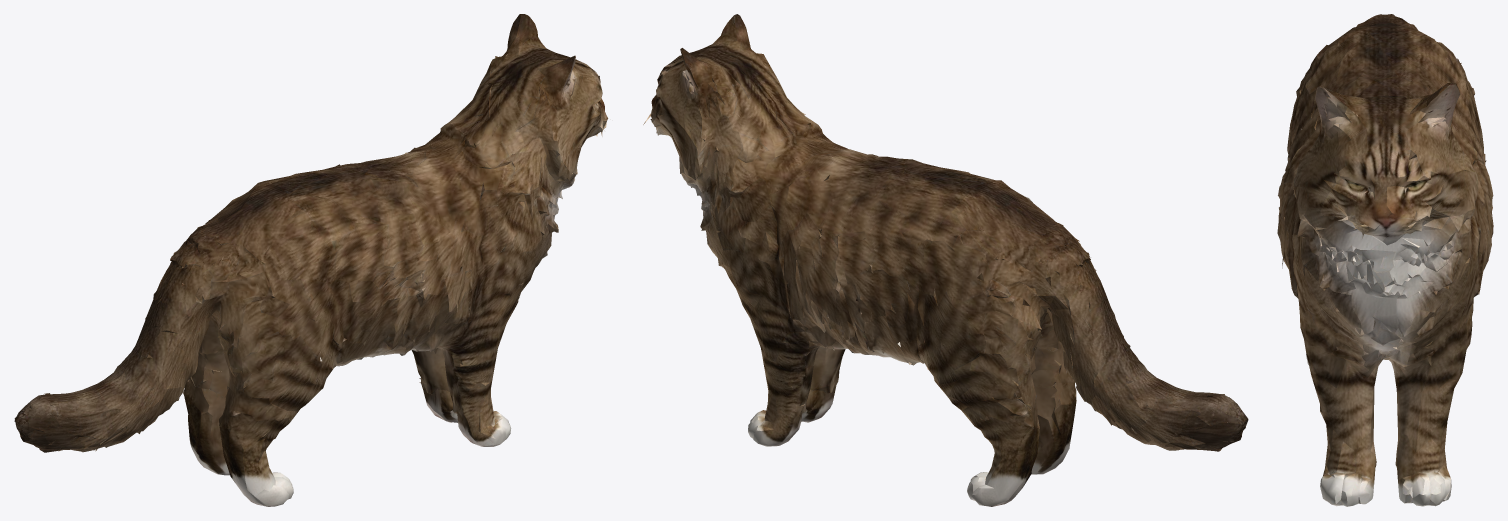
File: KPURRY.glb
3 renders of one model, left to right at view 1: azimuth 30°, elevation 25°; view 2: azimuth 150°, elevation 25°; view 3: azimuth 270°, elevation 25°, orthographic. The views are drawn at different scales.
Parts seen in each view (by area): view 1: output_unwrapped; view 2: output_unwrapped; view 3: output_unwrapped.
Boxes of the visible parts, box(x1,y1,x2,y2) form: output_unwrapped: box(14, 14, 608, 506); output_unwrapped: box(643, 14, 1248, 506); output_unwrapped: box(1277, 14, 1493, 506).
Bounding box in the file's own units: 1.63 × 1 × 0.4212.
Materials: 1 (1 with a texture image).
